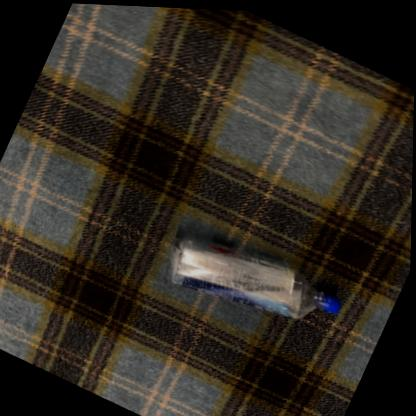Plastic: (168, 235, 341, 314)
